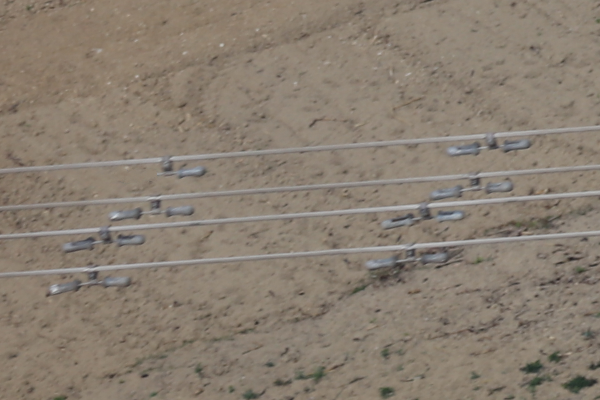damper: (47, 261, 137, 298), (361, 239, 449, 273), (105, 188, 195, 221), (428, 168, 517, 200), (59, 223, 148, 255), (379, 199, 466, 231), (441, 129, 534, 158)
damper_defect: (152, 154, 206, 181)
